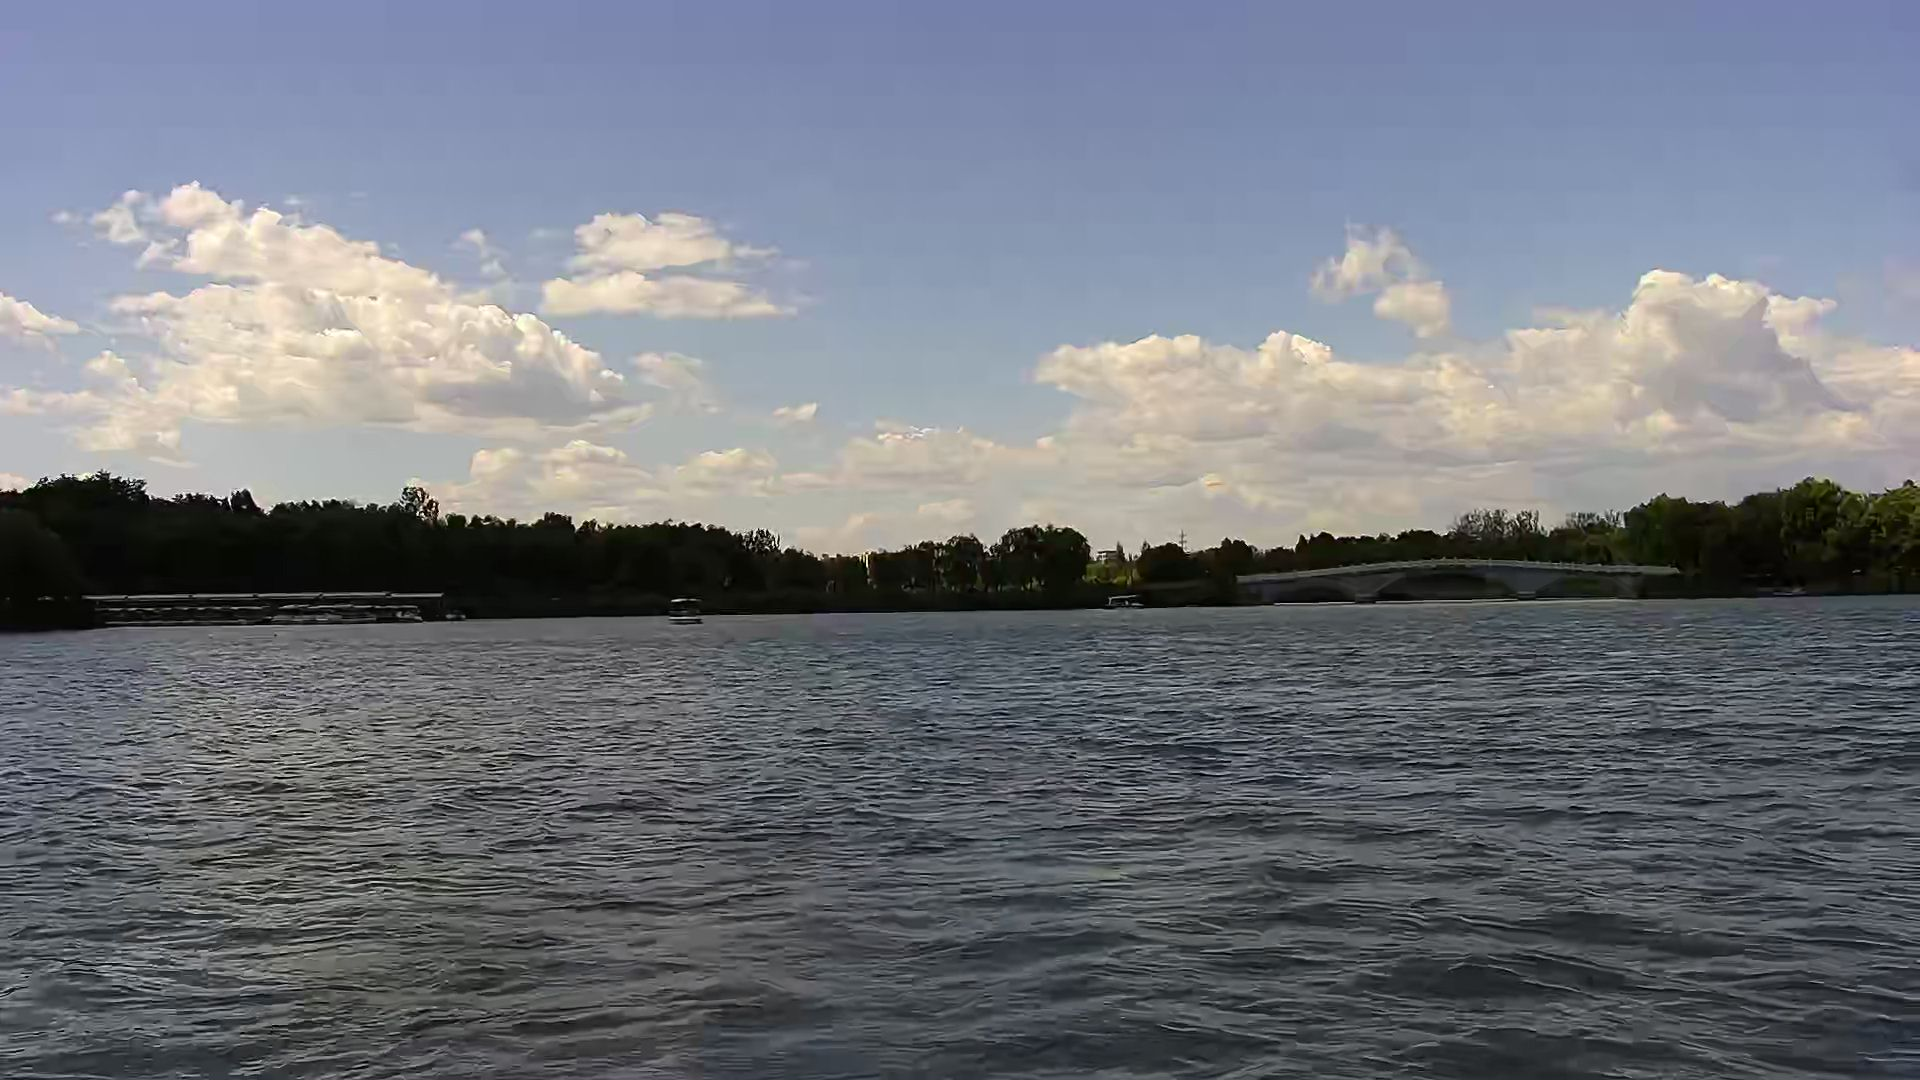boat: (662, 592, 707, 624), (1104, 591, 1150, 613)
bridge: (1240, 555, 1687, 603)
harbor: (80, 585, 464, 626)
